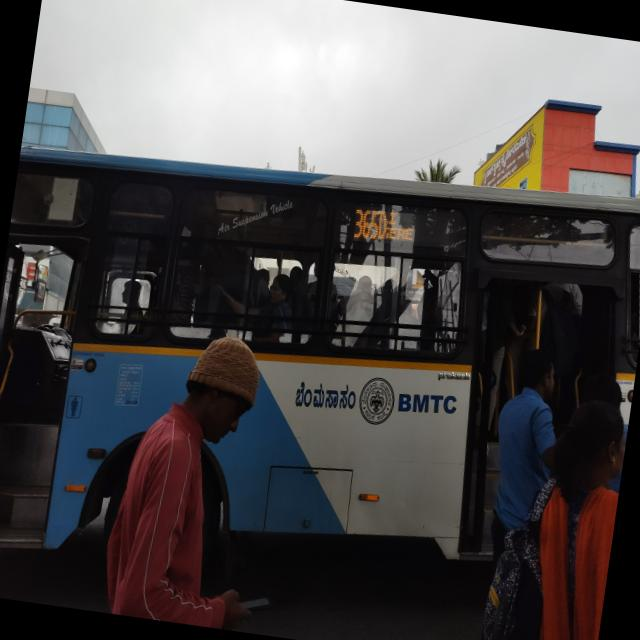bus: (0, 116, 640, 640)
display: (344, 198, 472, 261)
dnumber: (351, 206, 388, 243)
